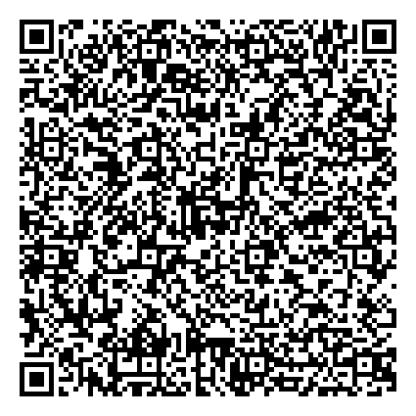qr: (16, 15, 405, 401)
